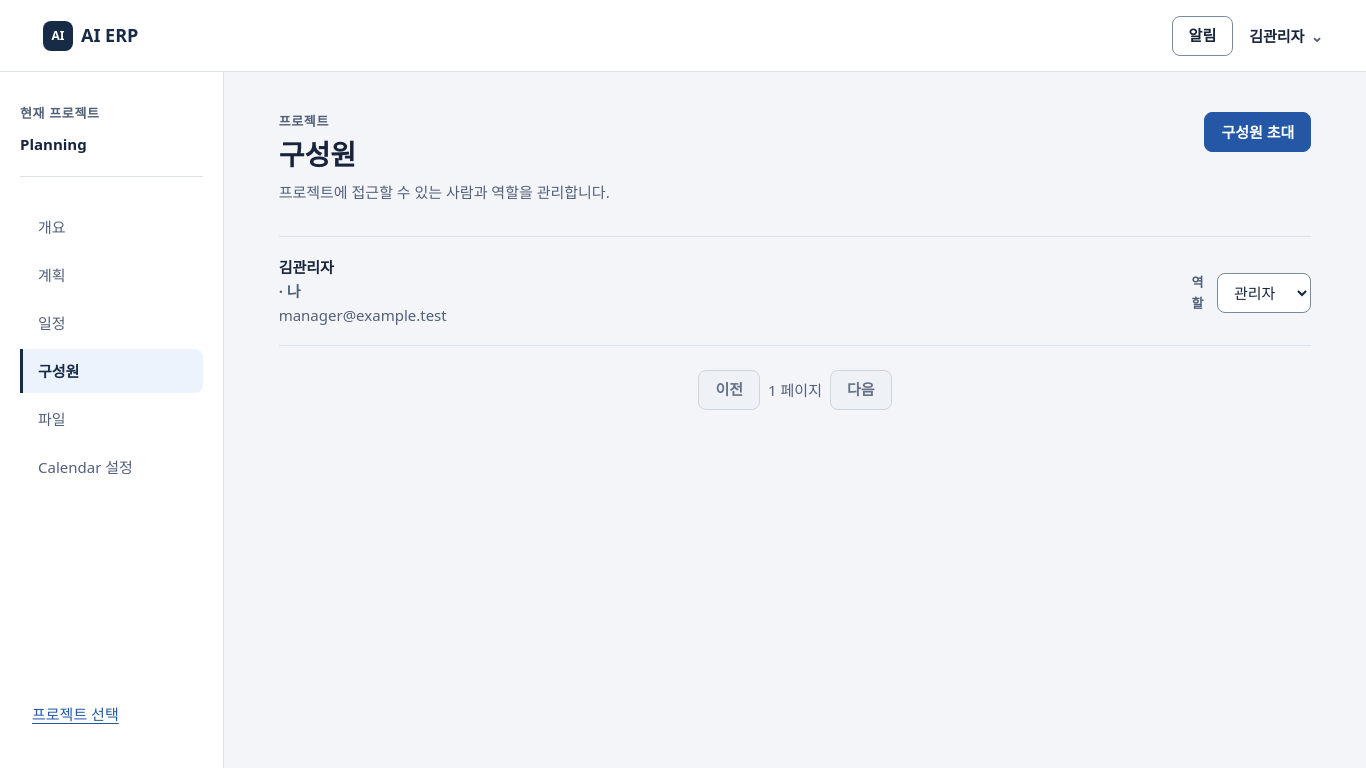
share denial hides a cached code through failed recovery until a fresh allowed GET
Step 1. Click the button "구성원 초대" → [1258, 132], box top-left (1204, 112), bottom-right (1311, 152)
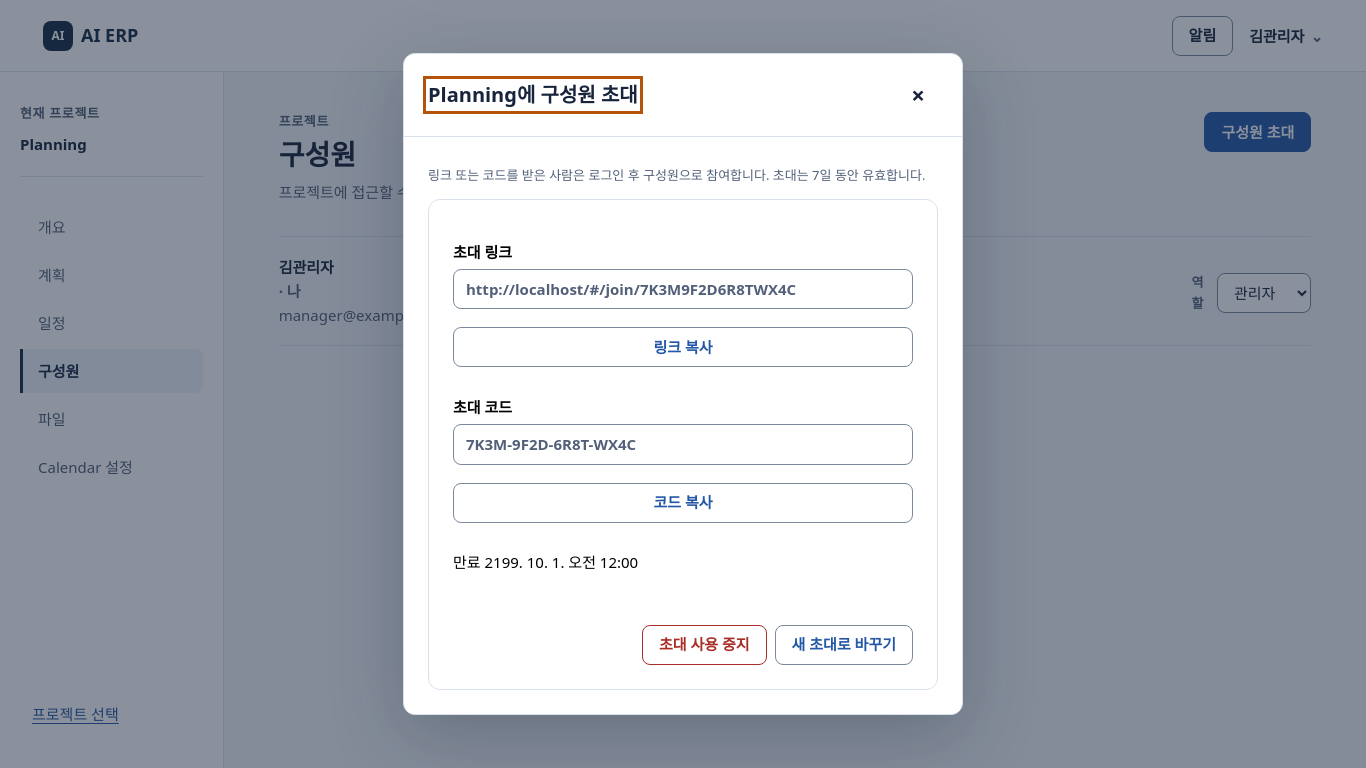
Expected: the field showing "7K3M-9F2D-6R8T-WX4C" is shown, top-left (453, 424), bottom-right (913, 464)
Step 2. Click the button "새 초대로 바꾸기" → [844, 644], box top-left (775, 624), bottom-right (913, 664)
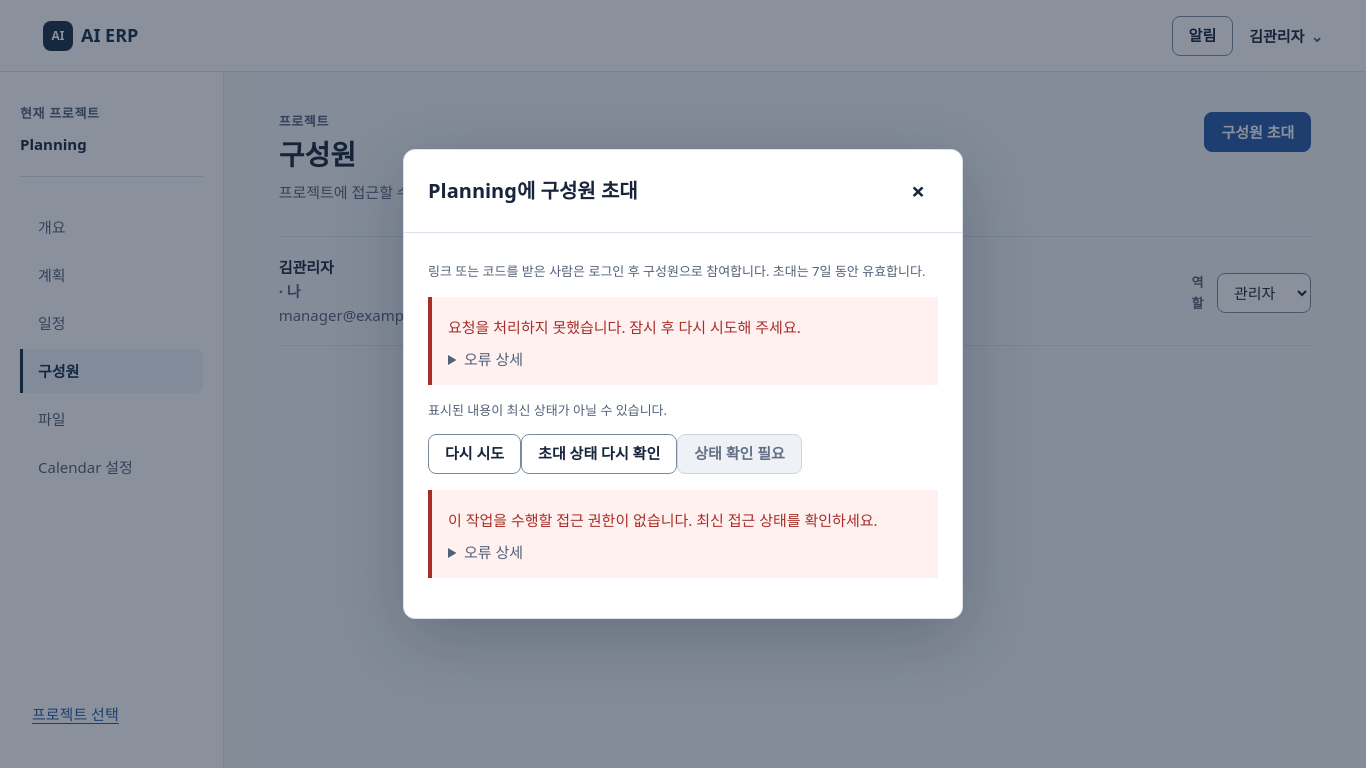
Expected: the field showing "7K3M" is not shown
Expected: the button "초대 상태 다시 확인" is shown
Step 3. Click the button "초대 상태 다시 확인" → [599, 454], box top-left (521, 434), bottom-right (677, 474)
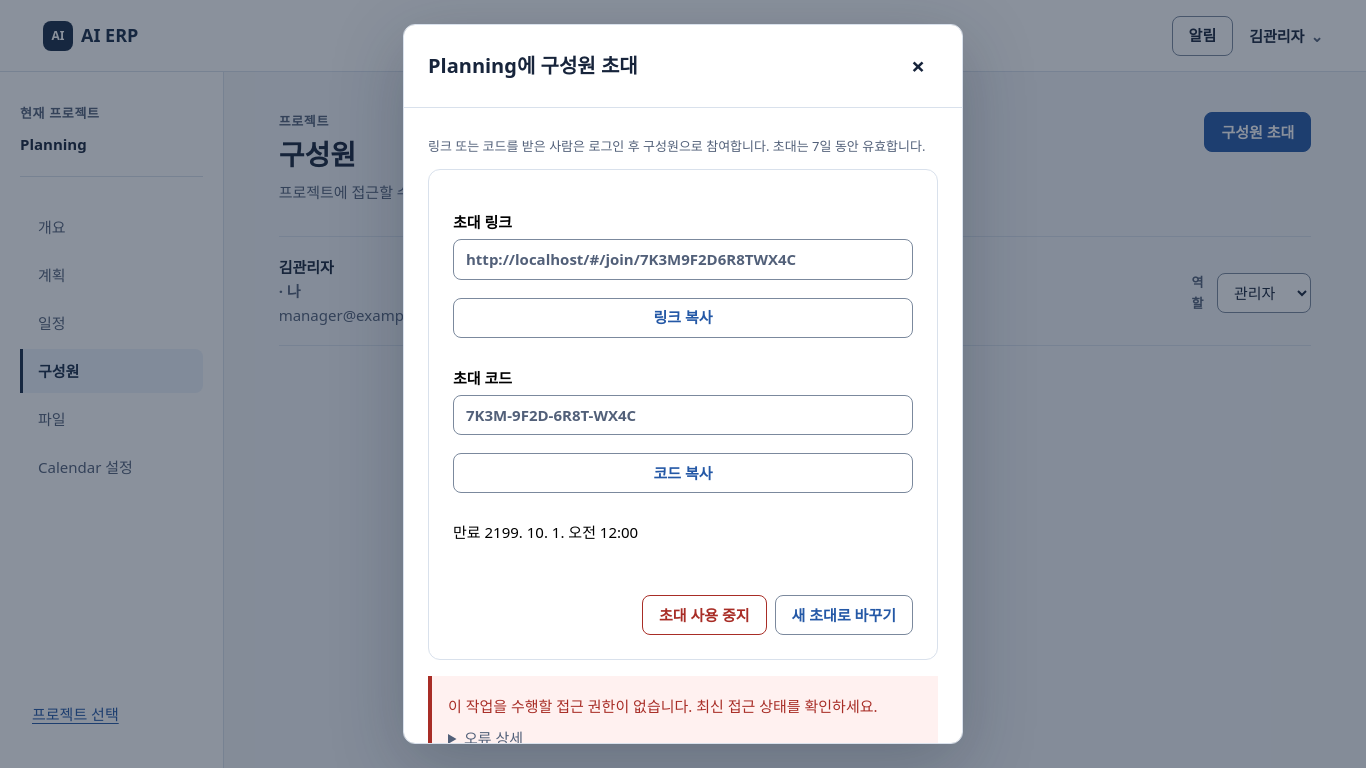
Expected: the field showing "7K3M-9F2D-6R8T-WX4C" is shown, top-left (453, 395), bottom-right (913, 435)
